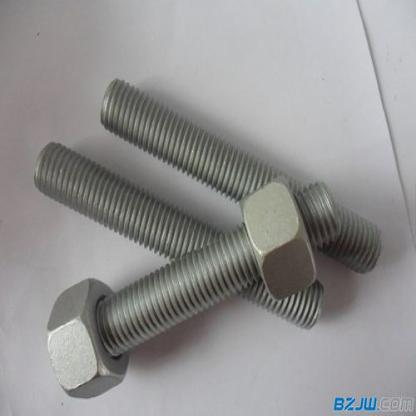FOD: (45, 275, 131, 402)
